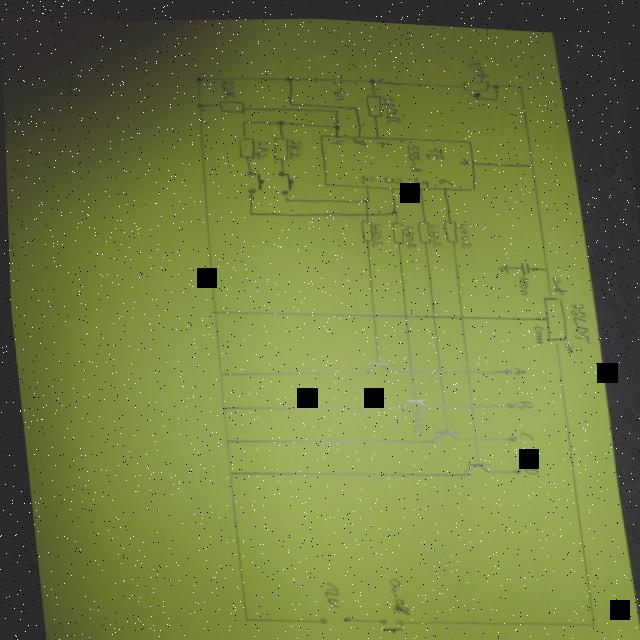capacitor: (515, 254, 531, 269), (329, 68, 344, 81)
crossover: (401, 360, 415, 371), (462, 394, 474, 406), (365, 305, 377, 316), (459, 360, 471, 371), (435, 395, 447, 406), (453, 306, 465, 316), (431, 361, 443, 371), (466, 428, 477, 438), (425, 306, 437, 315), (398, 306, 407, 315), (361, 205, 369, 213)
ground: (493, 256, 509, 268)
junction: (387, 202, 398, 212), (194, 71, 204, 80), (584, 612, 593, 622), (274, 115, 285, 123), (330, 118, 341, 126), (360, 190, 369, 199), (283, 71, 293, 79), (515, 75, 524, 83), (208, 305, 216, 313), (195, 98, 203, 106), (367, 71, 375, 79), (491, 76, 499, 84), (219, 434, 228, 441), (525, 155, 534, 162), (217, 401, 225, 408), (223, 466, 230, 473), (246, 206, 253, 213), (541, 258, 548, 265), (239, 613, 246, 619), (214, 368, 221, 374), (351, 100, 359, 105), (281, 193, 289, 198), (492, 90, 499, 95), (287, 97, 293, 102), (240, 116, 246, 120), (333, 104, 339, 108)
resistor: (461, 71, 492, 95), (269, 130, 290, 158), (363, 88, 383, 114), (217, 95, 246, 112), (236, 132, 255, 156), (441, 211, 457, 239), (413, 213, 430, 239), (388, 215, 404, 241), (357, 214, 373, 239)
switch: (241, 166, 264, 192), (373, 611, 400, 630), (275, 166, 294, 193)
terminal: (502, 426, 516, 437), (312, 611, 325, 621), (499, 360, 510, 370), (501, 394, 513, 403), (508, 460, 519, 469), (337, 611, 349, 619)
text: (403, 135, 444, 169), (566, 293, 589, 337), (383, 571, 407, 611), (466, 50, 490, 74), (381, 89, 400, 119), (318, 576, 337, 605), (405, 401, 422, 431), (366, 217, 383, 243), (455, 215, 470, 243), (400, 218, 415, 244), (219, 75, 236, 97), (426, 216, 440, 242), (286, 134, 302, 156), (550, 268, 566, 289), (253, 136, 269, 155), (561, 334, 580, 348), (511, 392, 532, 404), (515, 423, 533, 437), (530, 318, 543, 337), (516, 268, 527, 290), (381, 169, 402, 180), (330, 82, 345, 97), (412, 169, 428, 183), (357, 168, 374, 180), (519, 457, 536, 469), (327, 132, 345, 142), (436, 171, 453, 180), (510, 358, 525, 368), (456, 151, 469, 160), (351, 133, 365, 141), (374, 134, 388, 141)
transistor: (457, 455, 489, 472), (361, 353, 388, 372), (428, 422, 458, 439), (397, 391, 425, 406)
